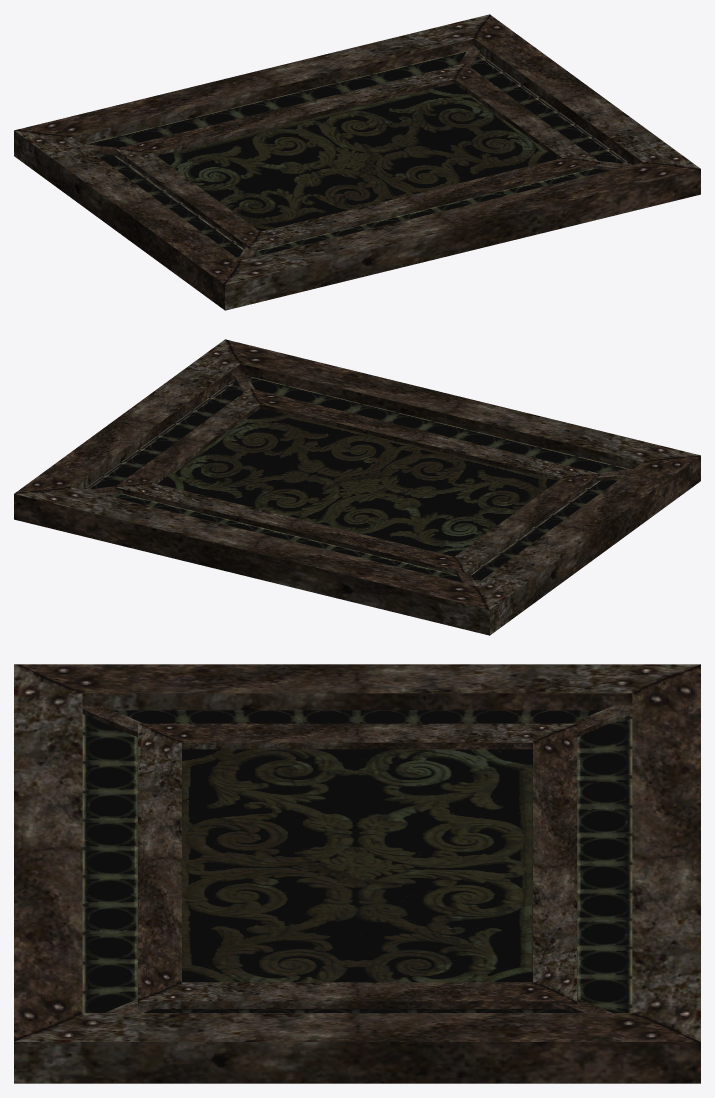
Rendered from grating.dae.
The picture shows the model from 3 angles, top to bottom: view 1: azimuth 30°, elevation 25°; view 2: azimuth 150°, elevation 25°; view 3: azimuth 270°, elevation 25°; orthographic projection. The views are drawn at different scales.
Parts seen in each view (by area): view 1: polySurface002, Object002; view 2: polySurface002, Object002; view 3: polySurface002, Object002.
Boxes of the visible parts, x1,y1,x2,y2 form: polySurface002: (14,14,700,310); Object002: (85,51,631,258); polySurface002: (14,339,700,635); Object002: (83,375,629,583); polySurface002: (14,664,700,1083); Object002: (82,710,632,1012).
Size of the model in its own units: 1.3 by 0.0671 by 1.
